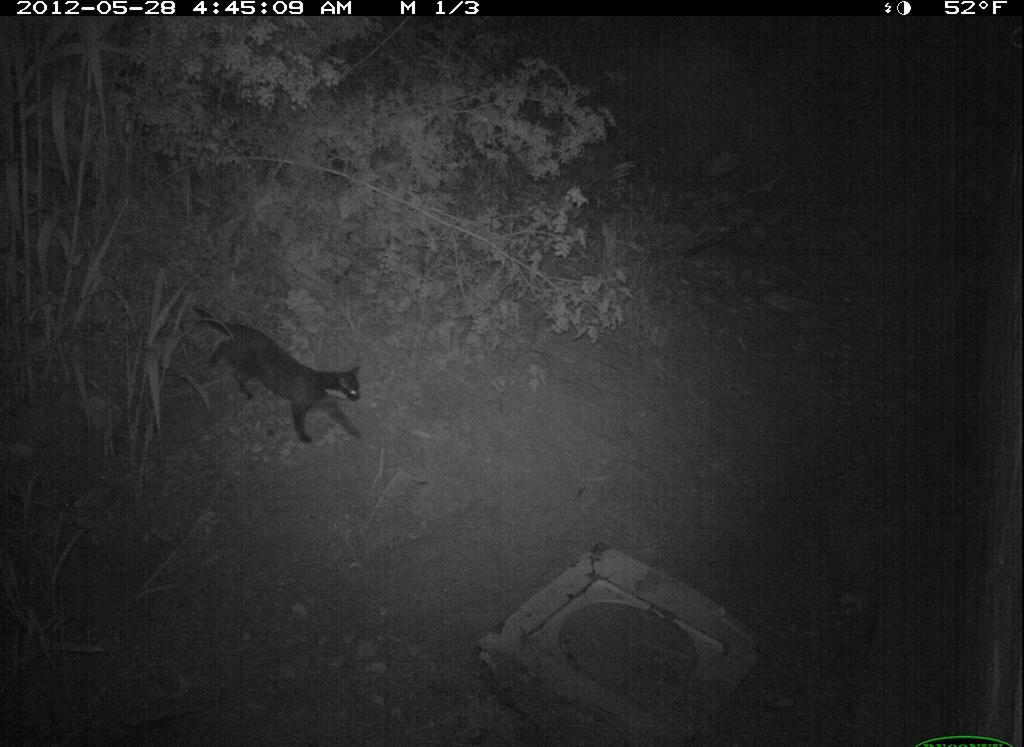cat: (187, 303, 373, 456)
